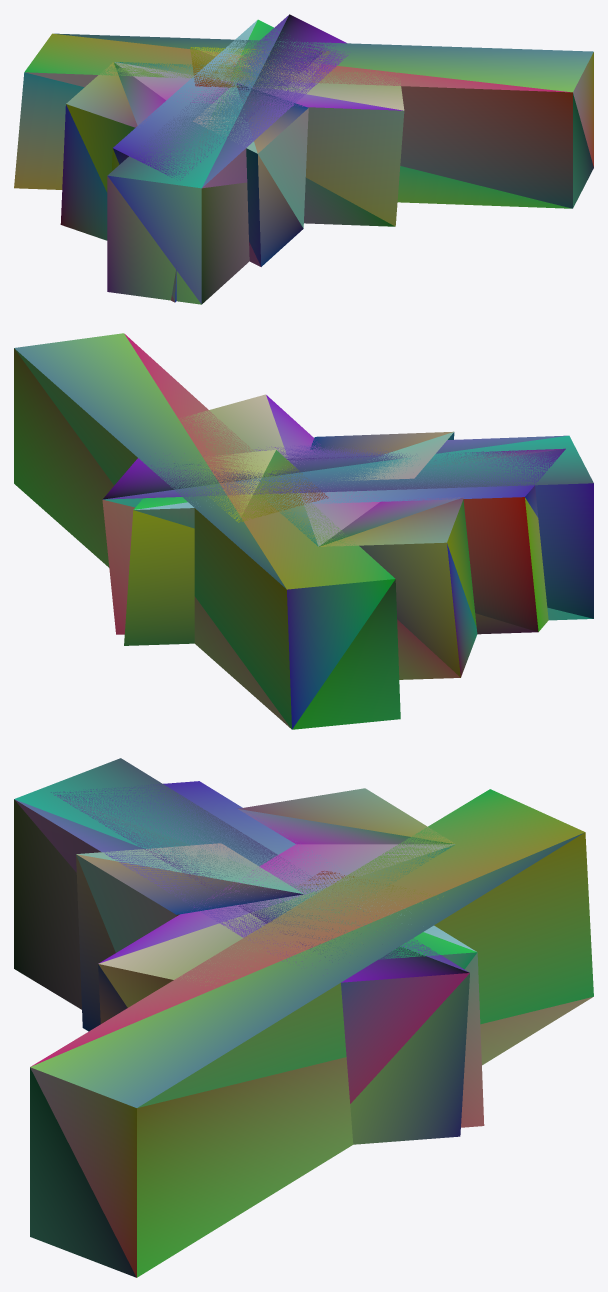
File: Chevron_1.fbx
3 renders of one model, top to bottom at view 1: azimuth 30°, elevation 25°; view 2: azimuth 150°, elevation 25°; view 3: azimuth 270°, elevation 25°, orthographic. The views are drawn at different scales.
Parts seen in each view (by area): view 1: Chevron; view 2: Chevron; view 3: Chevron.
Part boxes in pixels (x1=…): Chevron: x1=14, y1=14, x2=593, y2=304; Chevron: x1=14, y1=333, x2=593, y2=729; Chevron: x1=14, y1=758, x2=593, y2=1277.
Size of the model in its own units: 0.3408 by 0.077 by 0.2385.
